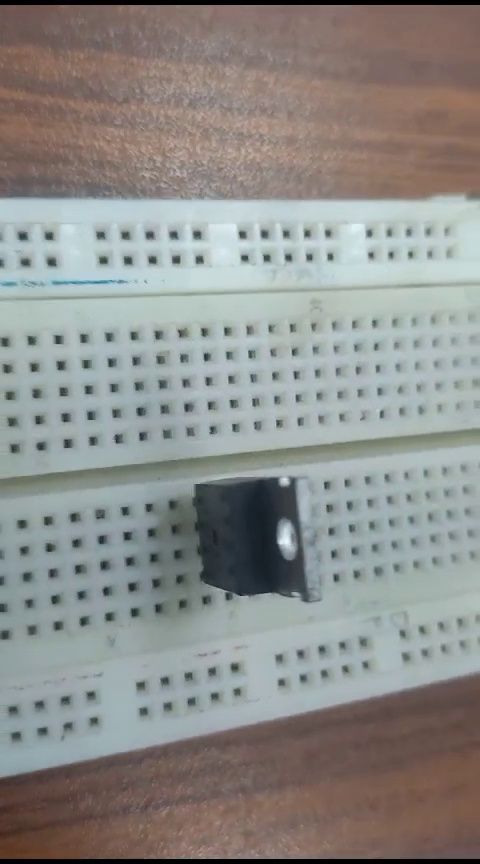voltage regulator: (181, 465, 338, 628)
